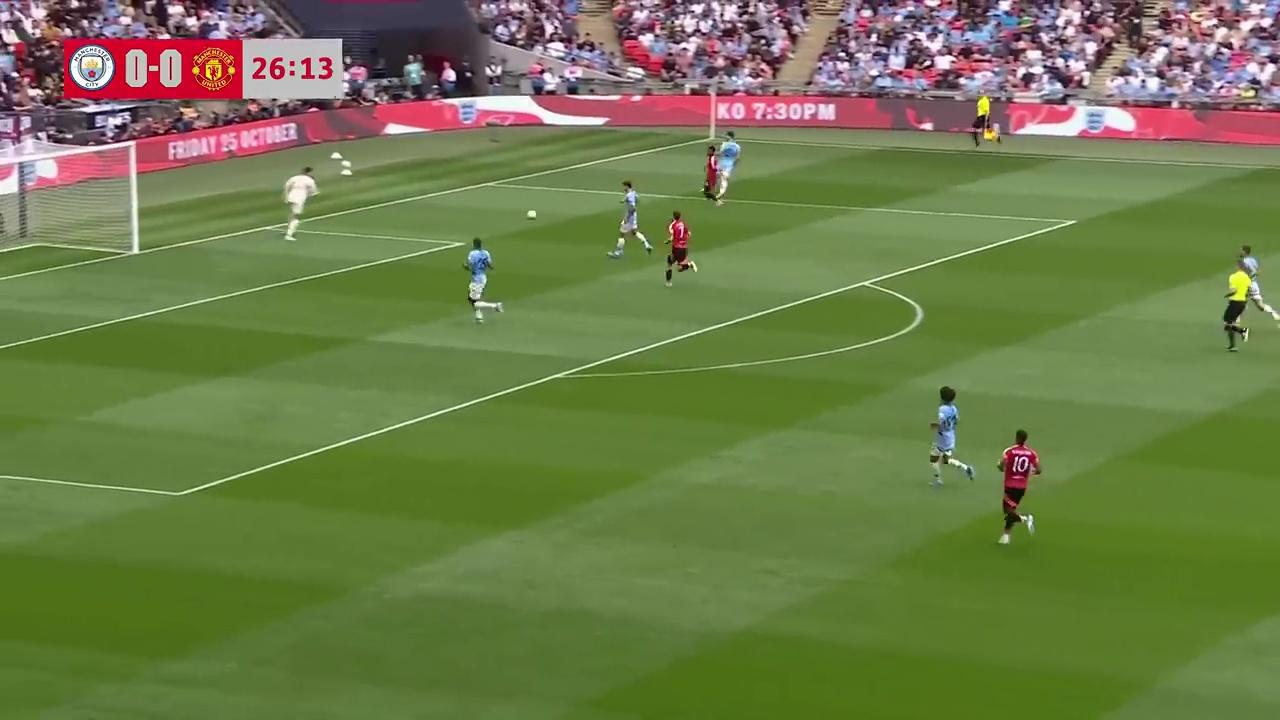ball: (524, 207, 538, 220)
player: (996, 429, 1041, 546), (927, 386, 973, 486), (607, 185, 654, 256), (1236, 247, 1279, 322), (462, 237, 498, 320), (663, 210, 698, 285), (283, 166, 320, 236), (717, 131, 741, 193), (701, 146, 724, 205)
referee: (1221, 263, 1248, 352), (973, 95, 1001, 149)
